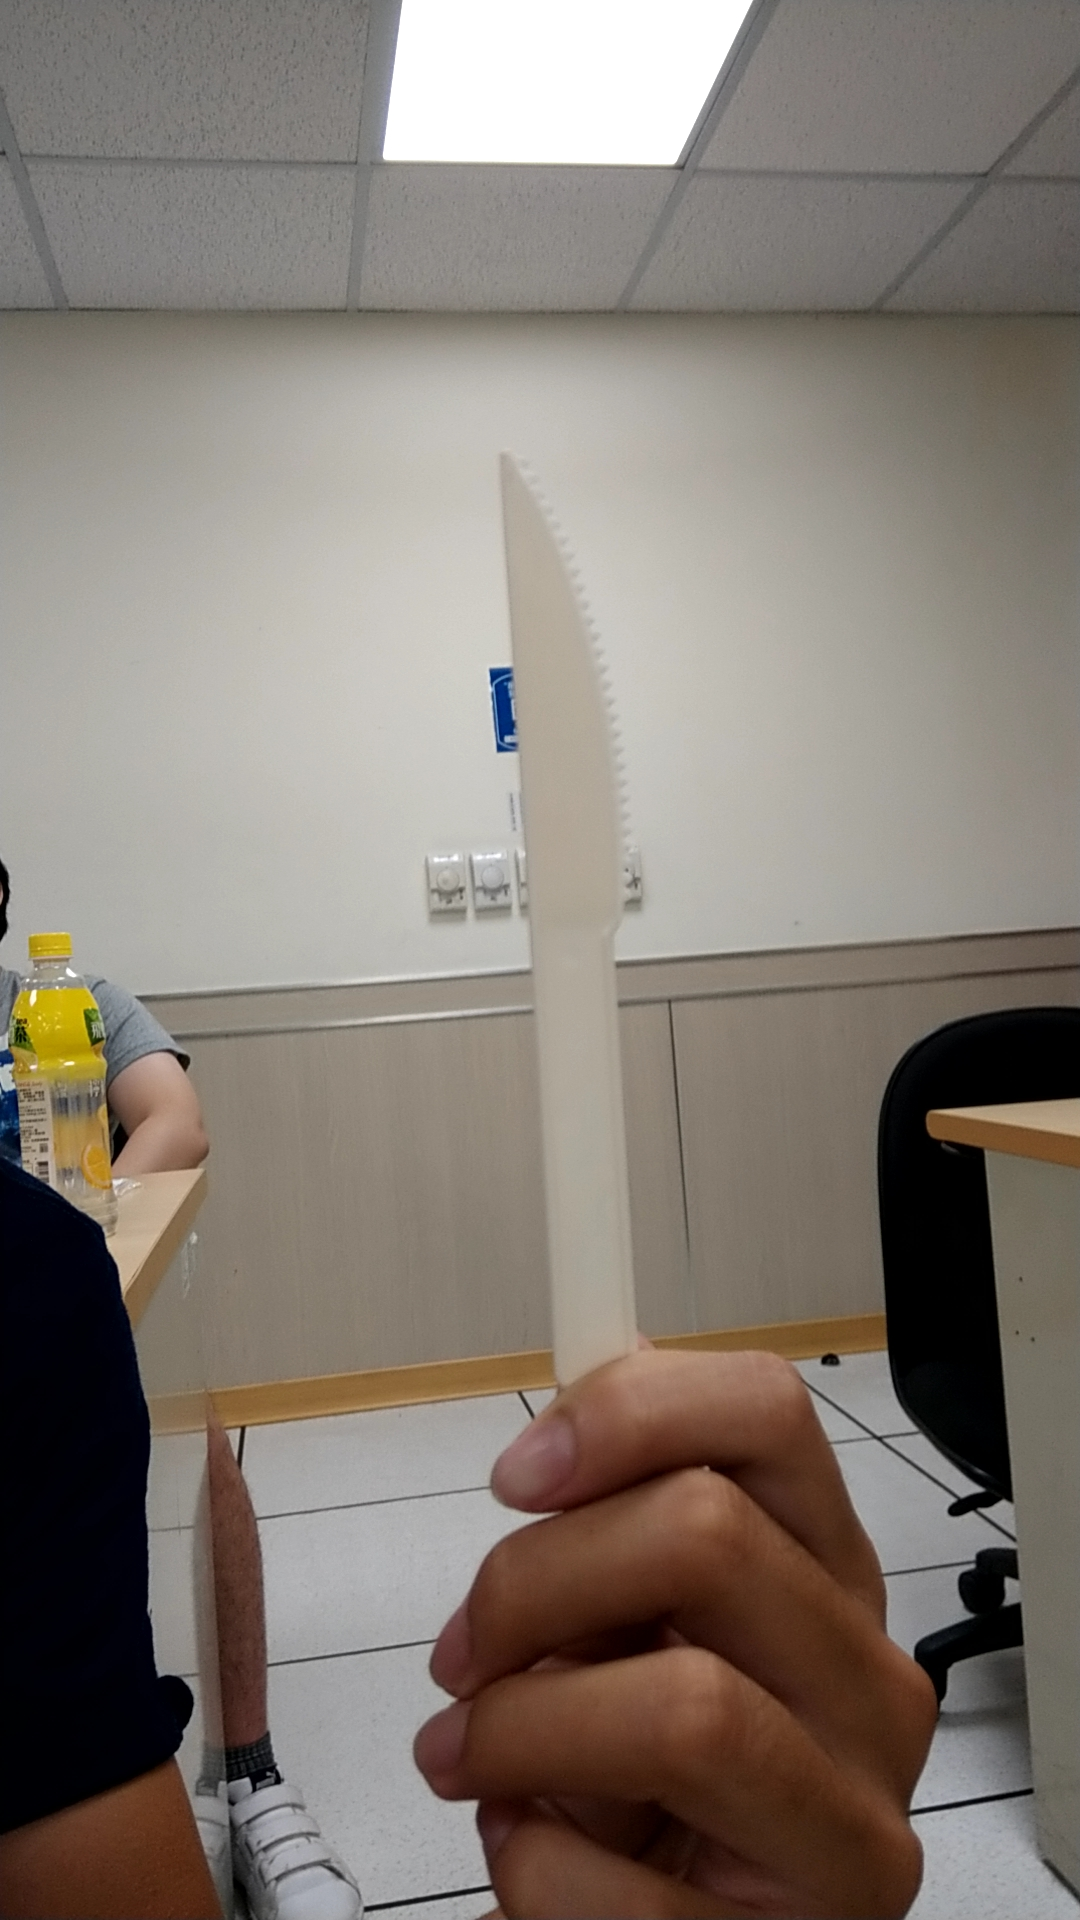knife: (472, 439, 654, 1379)
